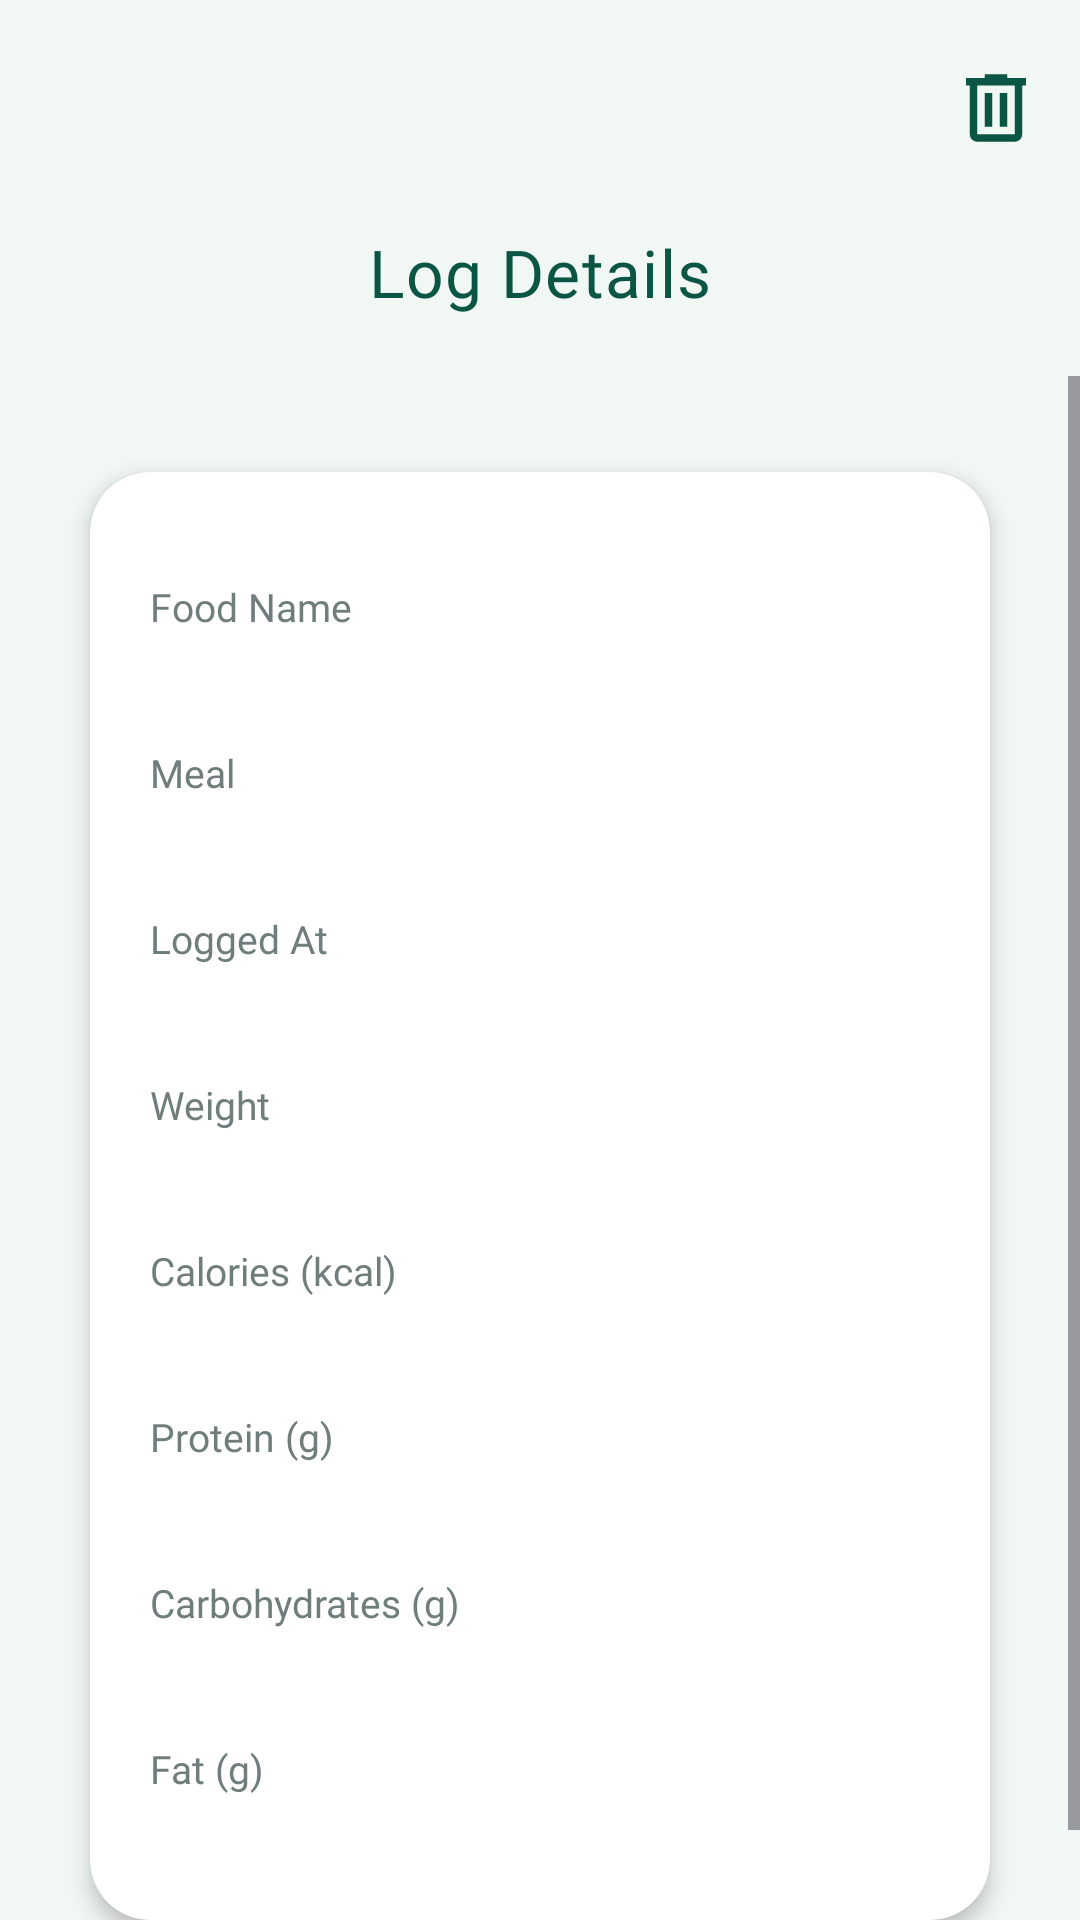

Icon click points for this 1080px×1920px phone screenshot, format (x,y):
Delete meal: (996,108)
